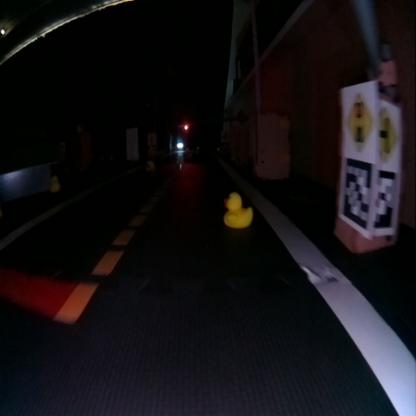Duckie: (222, 191, 252, 228), (49, 174, 60, 191), (145, 160, 154, 170)
Intersection sign: (378, 108, 400, 162)
QR code: (341, 157, 372, 232), (375, 169, 396, 231)
Signal sign: (344, 92, 372, 148)
